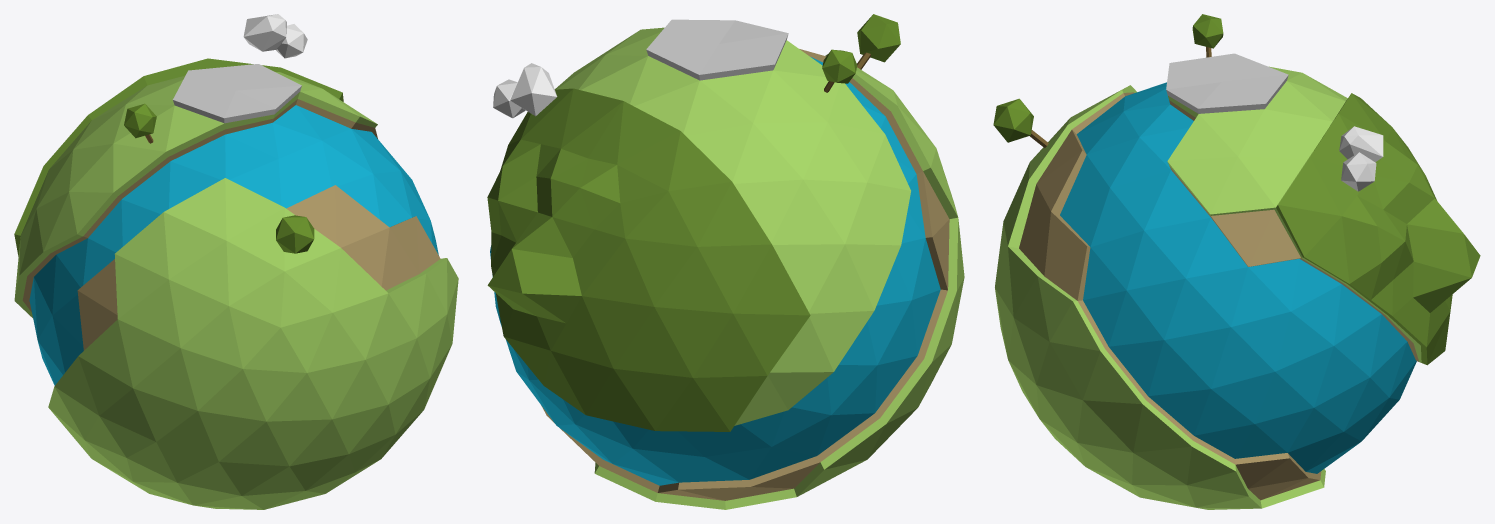
File: planet.dae
3 renders of one model, left to right at view 1: azimuth 30°, elevation 25°; view 2: azimuth 150°, elevation 25°; view 3: azimuth 270°, elevation 25°, orthographic. The views are drawn at different scales.
Parts seen in each view (by area): view 1: planet; view 2: planet; view 3: planet.
Part boxes in pixels (x1,y1,x2,y2): planet: (14,14,458,509); planet: (487,14,964,509); planet: (993,14,1480,509).
Size of the model in its own units: 20.37 by 22.96 by 22.05.
